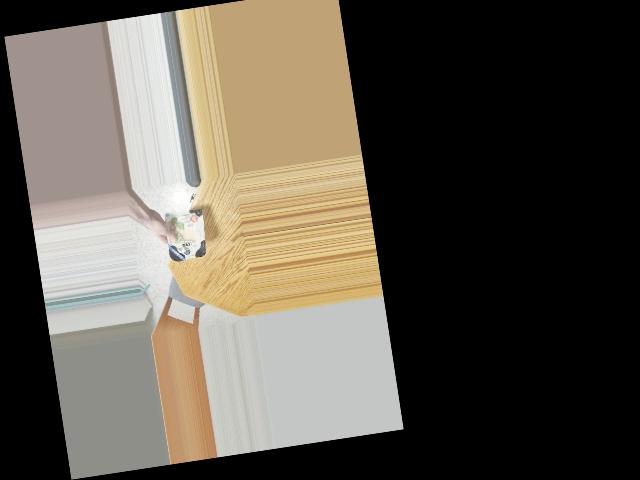cheese: (160, 197, 210, 273)
